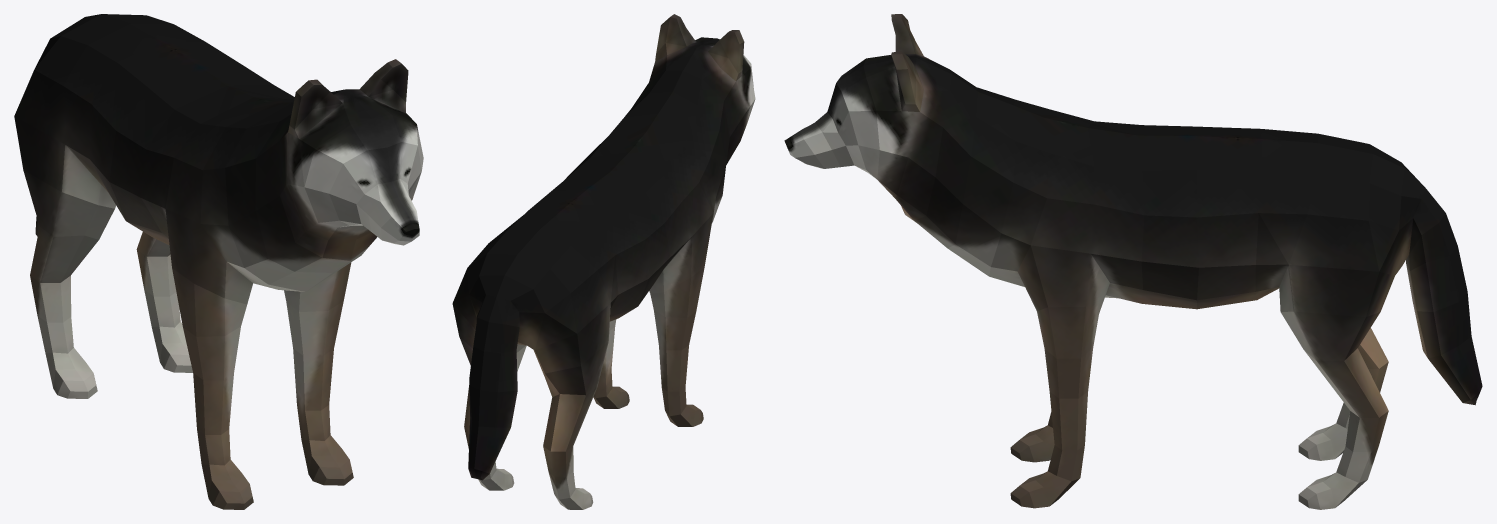
File: animals-wolf-215.glb
The picture shows the model from 3 angles, left to right: view 1: azimuth 30°, elevation 25°; view 2: azimuth 150°, elevation 25°; view 3: azimuth 270°, elevation 25°; orthographic projection. The views are drawn at different scales.
Visible parts, largest first — view 1: Wolves_Mesh; view 2: Wolves_Mesh; view 3: Wolves_Mesh.
Part boxes in pixels (x1=…): Wolves_Mesh: x1=14, y1=14, x2=423, y2=509; Wolves_Mesh: x1=452, y1=14, x2=755, y2=509; Wolves_Mesh: x1=784, y1=14, x2=1482, y2=509.
Size of the model in its own units: 2.6 by 6.75 by 9.65.
1 material, 1 textured.
